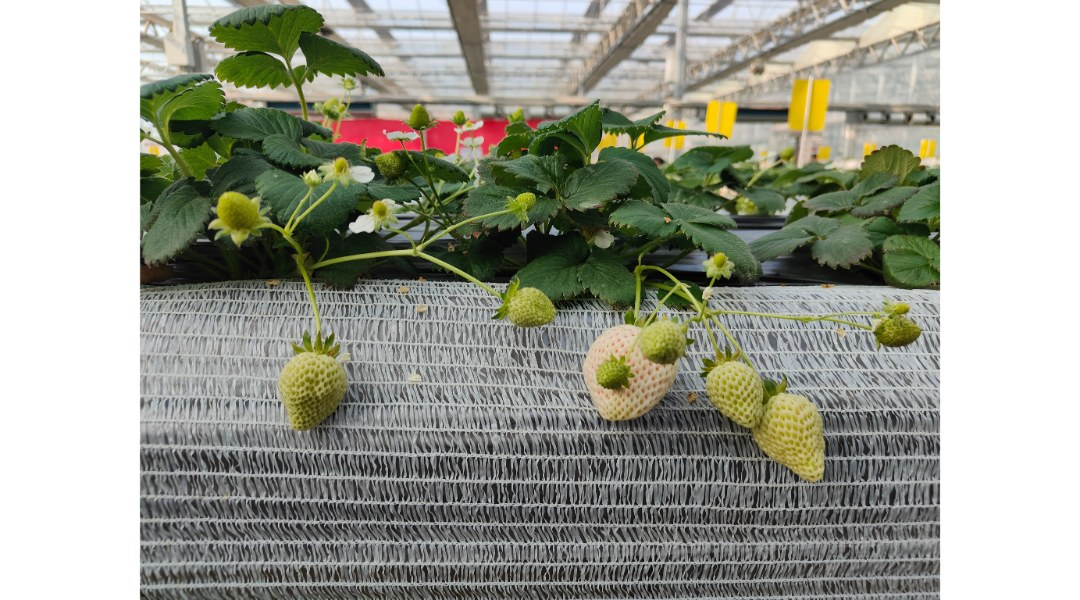berry: (273, 333, 361, 449), (210, 187, 265, 258)
